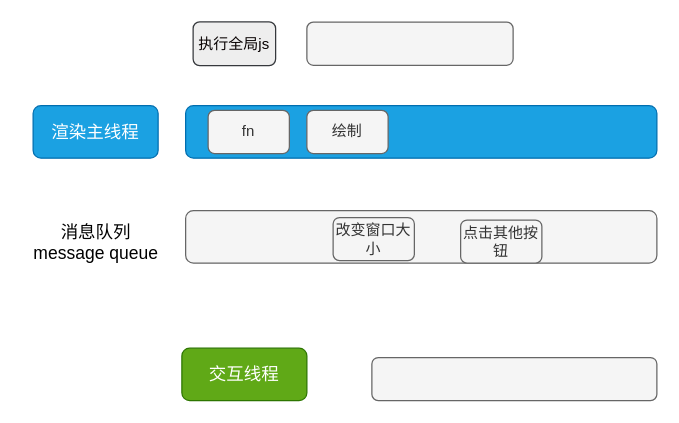
Image size: 679x423. Some labels were removed from this diagram. Each missing label, with the centre of its shape:
"死循环3000ms" goes at (x=409, y=43).
"监听按钮点击，点击后执行 fn" goes at (x=514, y=378).
